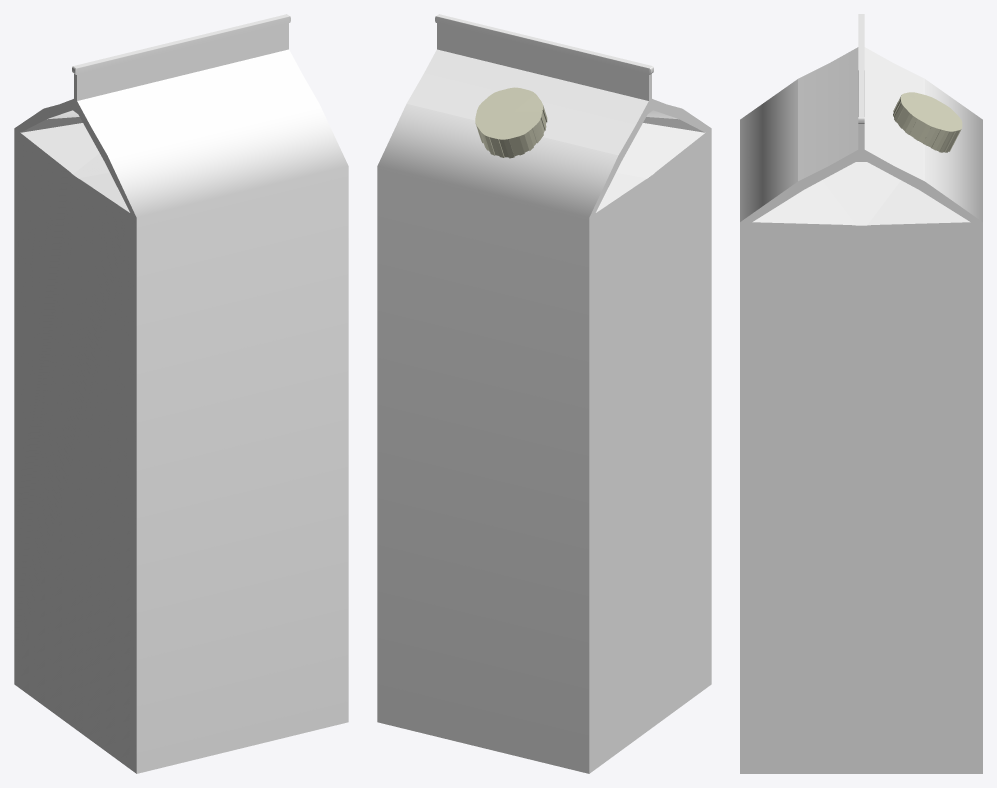
Rendered from Milk.fbx.
3 renders of one model, left to right at view 1: azimuth 30°, elevation 25°; view 2: azimuth 150°, elevation 25°; view 3: azimuth 270°, elevation 25°, orthographic.
Visible parts, largest first — view 1: pCube1; view 2: pCube1, pCylinder1; view 3: pCube1, pCylinder1.
Boxes of the visible parts, left/top/right/bottom form: pCube1: left=14, top=14, right=348, bottom=773; pCube1: left=377, top=14, right=711, bottom=773; pCylinder1: left=475, top=87, right=547, bottom=158; pCube1: left=740, top=14, right=982, bottom=773; pCylinder1: left=893, top=92, right=962, bottom=152.
Size of the model in its own units: 2.32 by 6.82 by 2.28.
2 materials, 1 textured.
